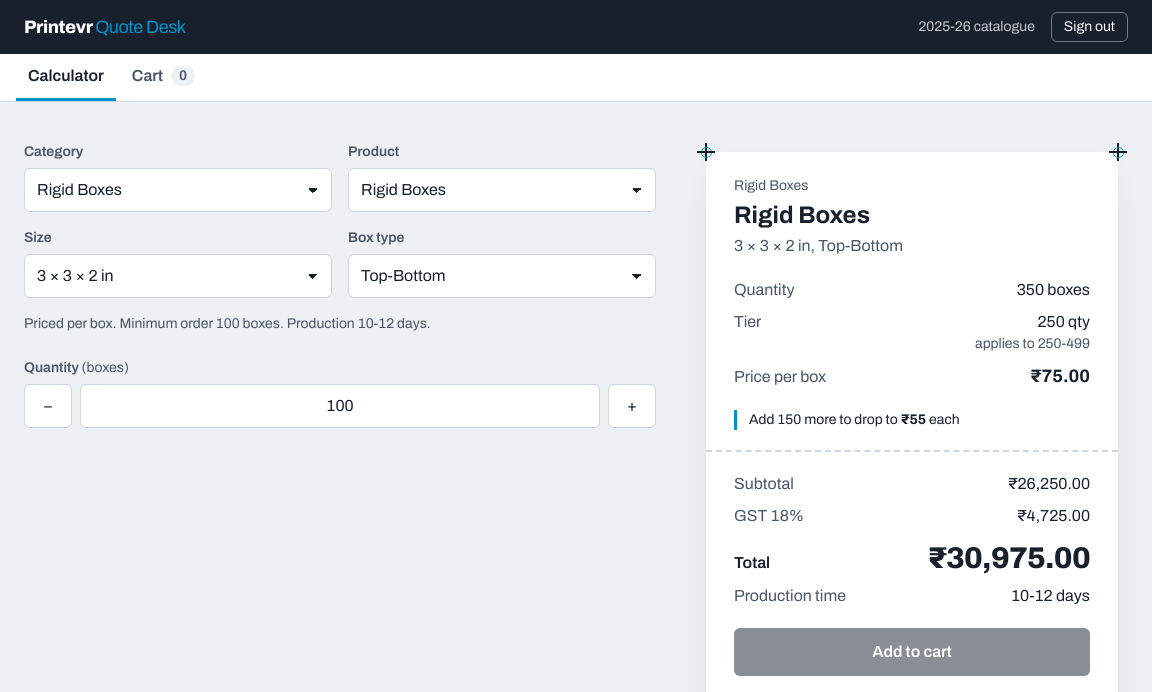
Test case: quote desk › C1 on screen: custom size names its anchors
The width and height of the screenshot is (1152, 692).
Select "Custom size…" in the dropdown labelled "Size" at (178, 276), box [24, 254, 332, 298]
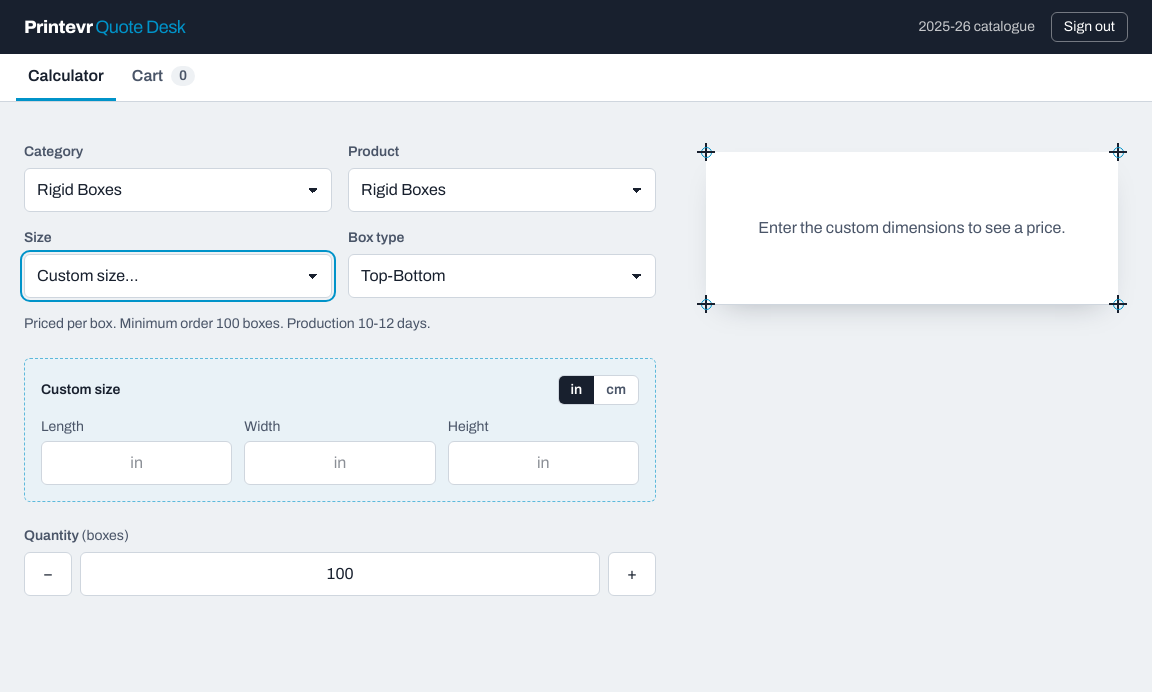
Type "3.5" into the field labelled "Length" at (137, 463), box [41, 441, 232, 485]
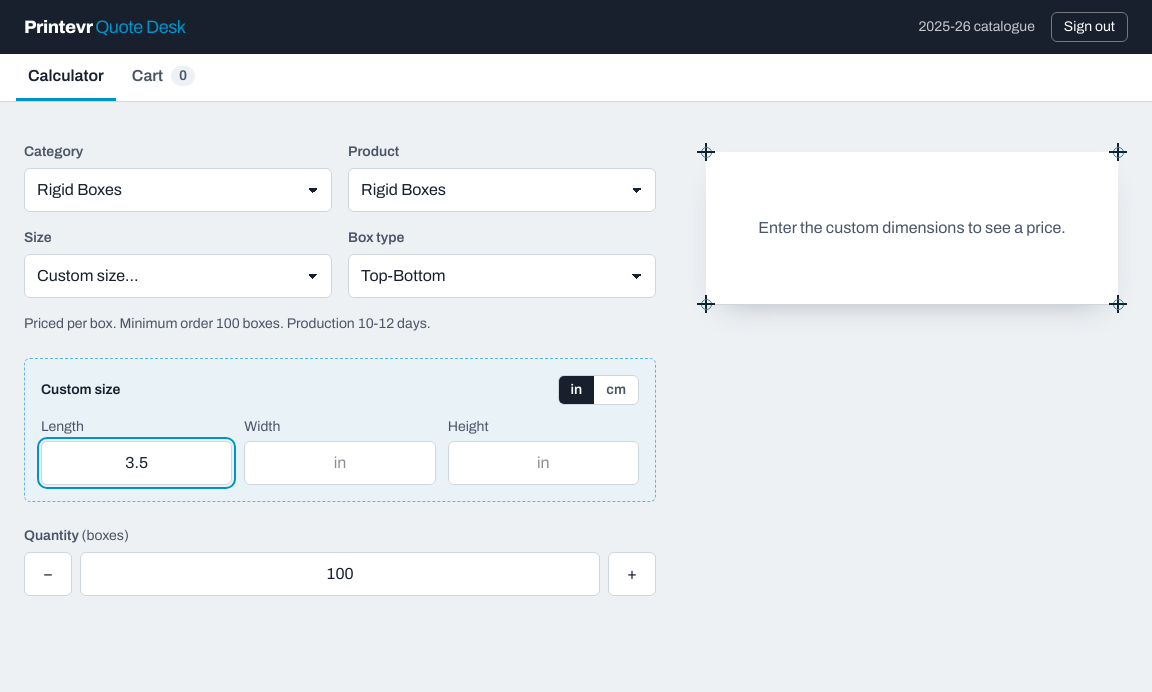
Type "3.5" into the field labelled "Width" at (340, 463), box [244, 441, 436, 485]
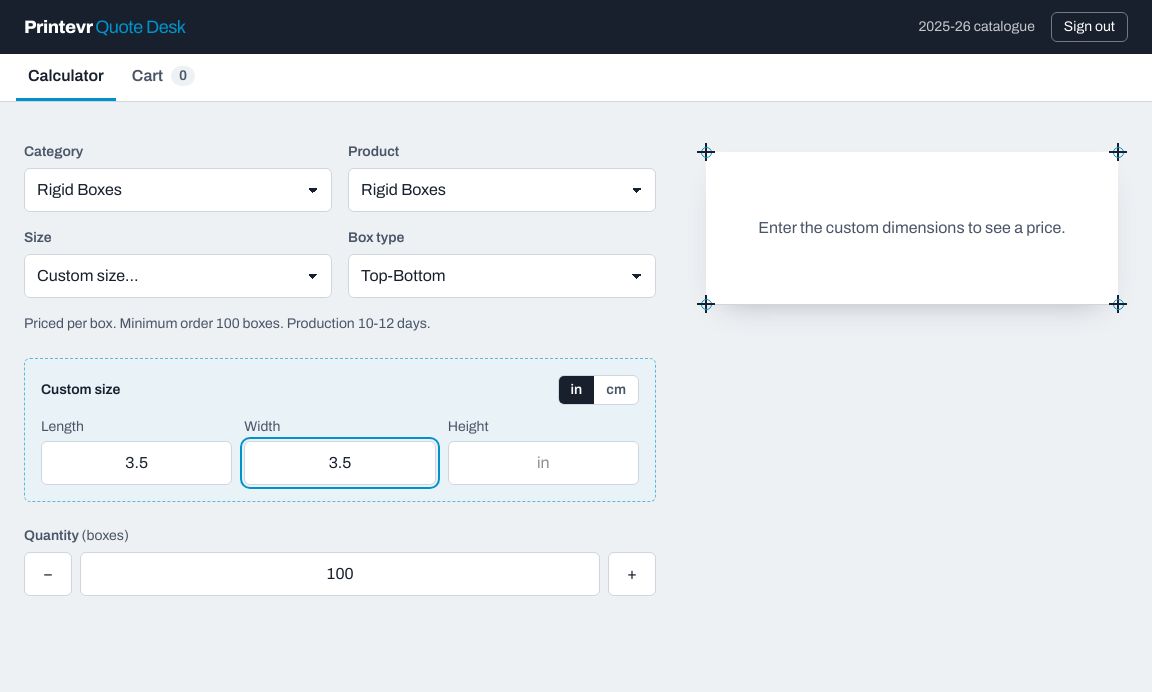
Type "2" into the field labelled "Height" at (543, 463), box [448, 441, 639, 485]
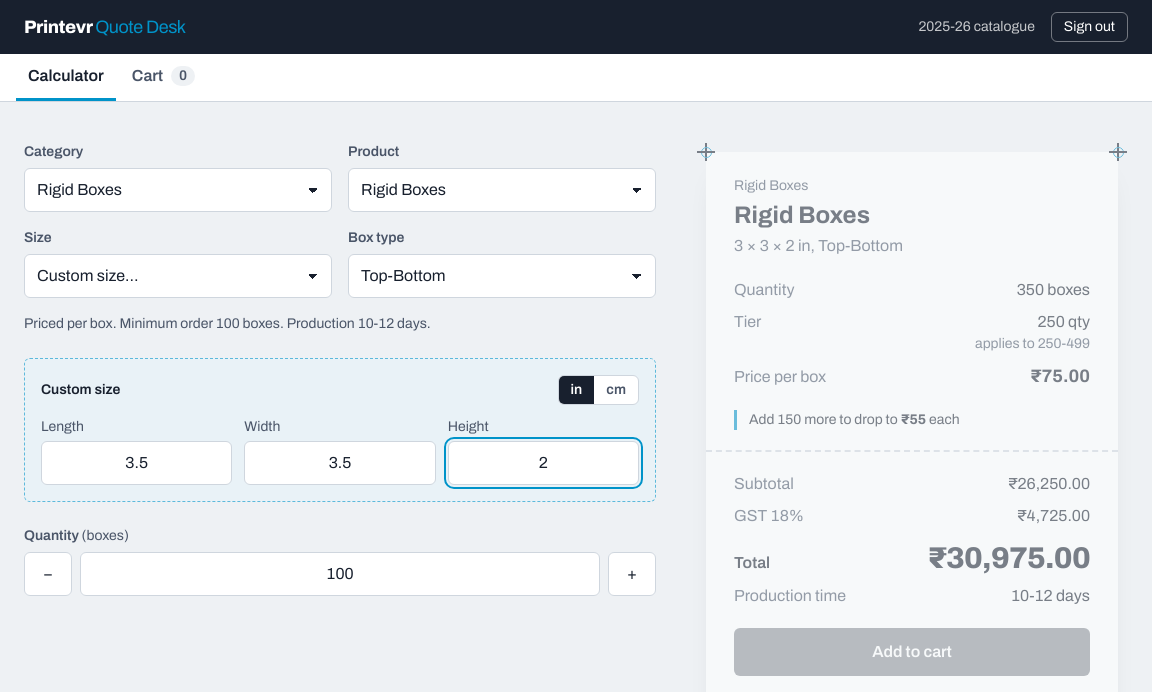
Replace the text in the field labelled "Quantity (boxes)" with "300" at (340, 574), box [80, 552, 600, 596]
Wait 300 ms
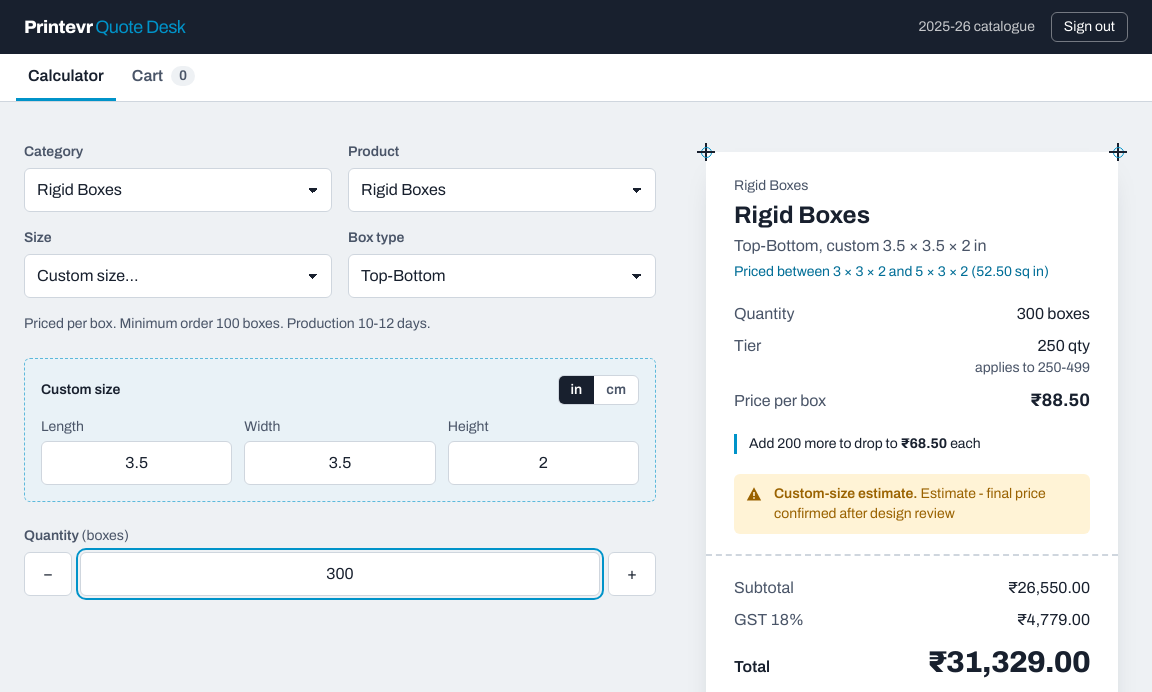
Result: the text with test id "grand-total" reads "₹31,329.00" at [928, 646, 1090, 678]
Result: the text "Priced between 3 × 3 × 2 and 5 × 3 × 2 (52.50 sq in)" is shown at [734, 262, 1090, 282]
Result: the text "final price confirmed after design review" is shown at [774, 486, 1046, 521]
